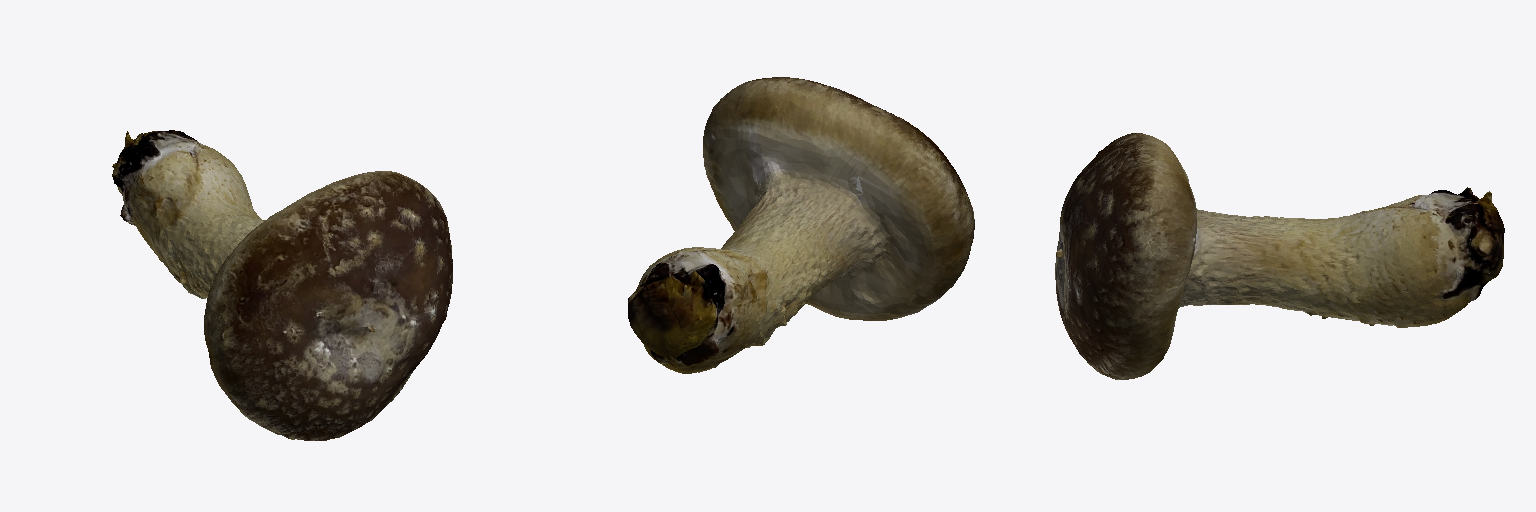
The picture shows the model from 3 angles: view 1: azimuth 30°, elevation 25°; view 2: azimuth 150°, elevation 25°; view 3: azimuth 270°, elevation 25°; orthographic projection.
Size of the model in its own units: 0.6289 by 0.5768 by 1.
1 materials, 1 textured.